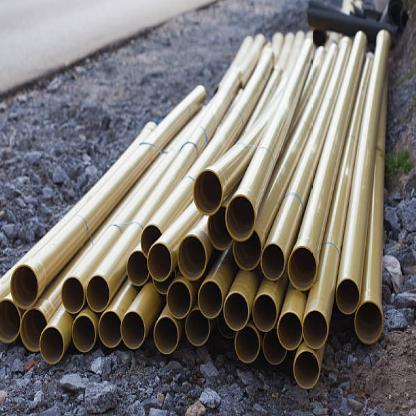pipe: (225, 195, 256, 241), (177, 234, 207, 281), (193, 169, 223, 215), (288, 246, 318, 290), (354, 301, 384, 345), (10, 264, 39, 309), (20, 307, 48, 352), (233, 229, 262, 272), (207, 206, 233, 250), (302, 309, 328, 349), (294, 350, 320, 389), (167, 279, 192, 319), (0, 298, 22, 343), (185, 308, 211, 346), (277, 312, 303, 350), (147, 243, 172, 282), (198, 280, 223, 319), (224, 292, 249, 331), (154, 316, 179, 355), (253, 294, 278, 332), (121, 311, 146, 349), (235, 325, 260, 363), (40, 326, 65, 364), (261, 243, 285, 281), (61, 276, 85, 314), (98, 310, 122, 348), (72, 314, 96, 352), (86, 275, 110, 312), (336, 277, 360, 314), (263, 328, 287, 365), (127, 250, 150, 286), (141, 224, 163, 257)
